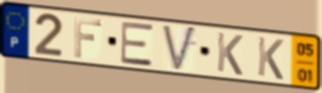2: (33, 12, 67, 59)
E: (119, 21, 155, 68)
F: (73, 16, 104, 60)
K: (215, 30, 245, 78), (256, 35, 286, 82)
V: (160, 23, 199, 74)
